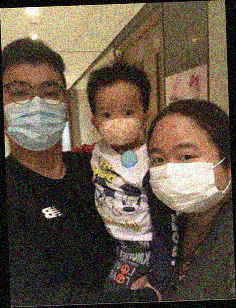with_mask: (149, 139, 228, 217), (3, 77, 69, 153), (94, 101, 144, 148)
